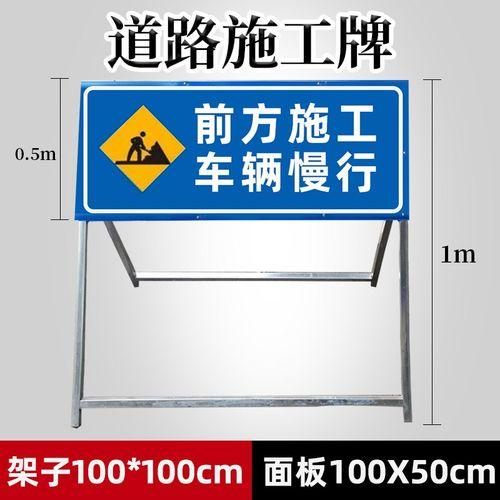sign: (79, 79, 411, 215)
